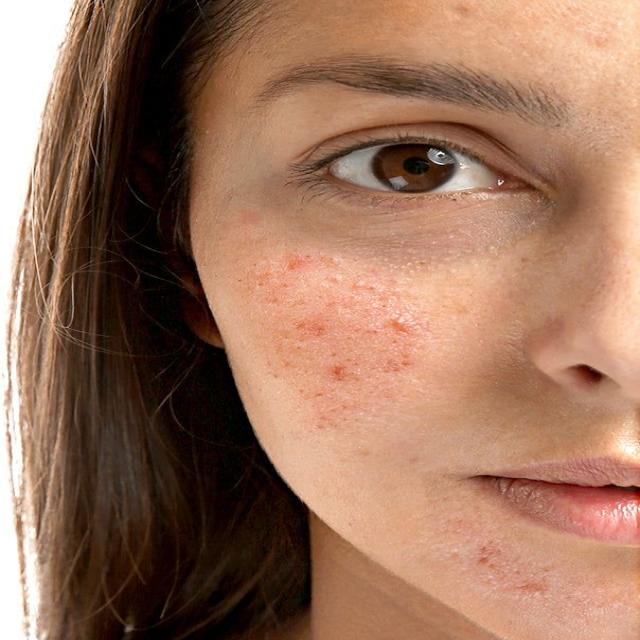Dry-Skin: (262, 269, 421, 411), (466, 546, 564, 609)
